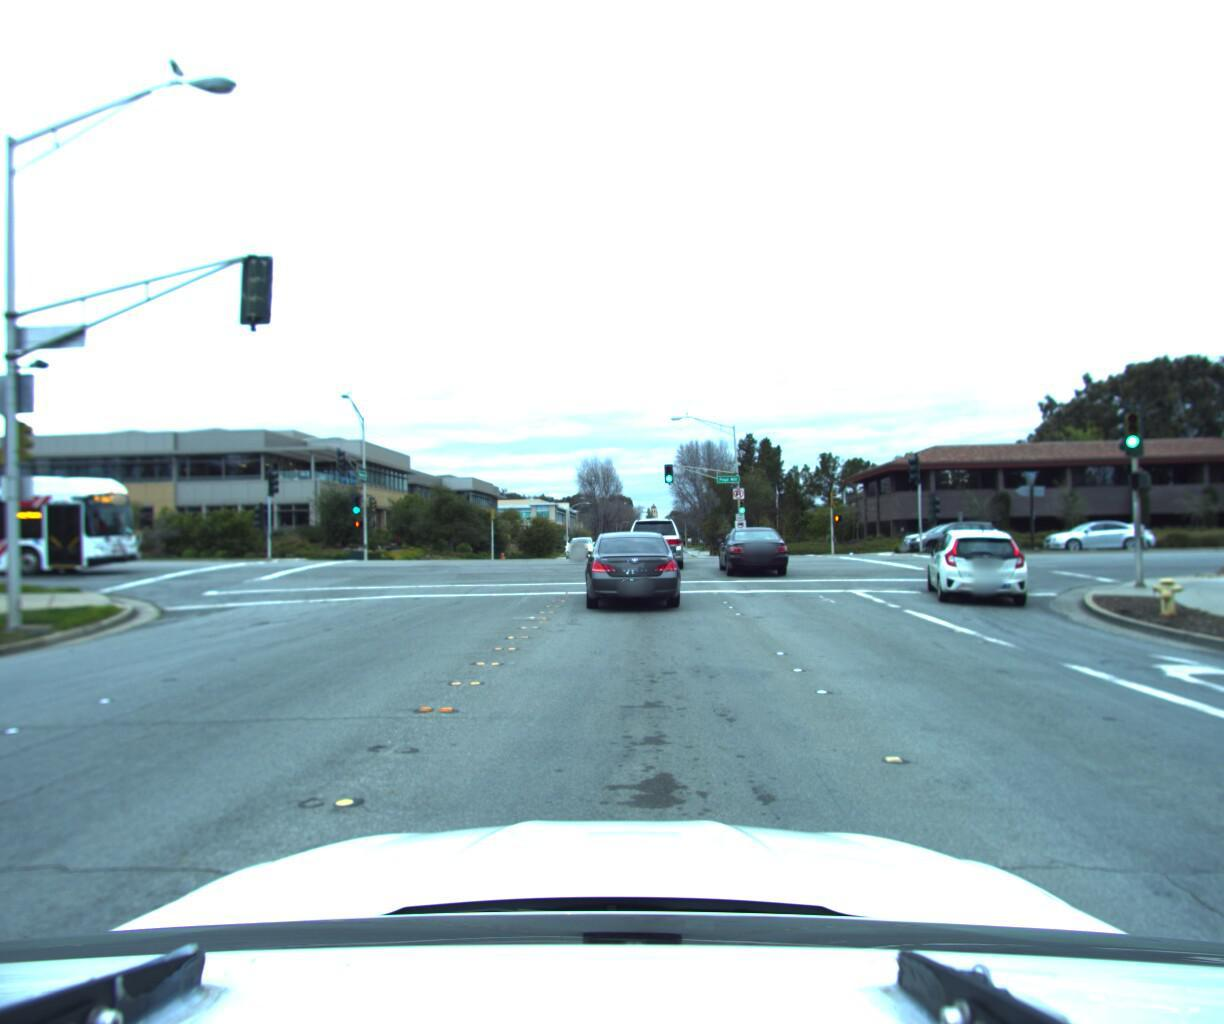car: (906, 521, 1032, 603), (586, 526, 682, 616), (711, 523, 793, 579), (1034, 511, 1148, 545), (898, 514, 1001, 550), (889, 514, 990, 549), (623, 513, 687, 568), (1051, 514, 1155, 547), (563, 534, 597, 559), (1212, 506, 1224, 541)
